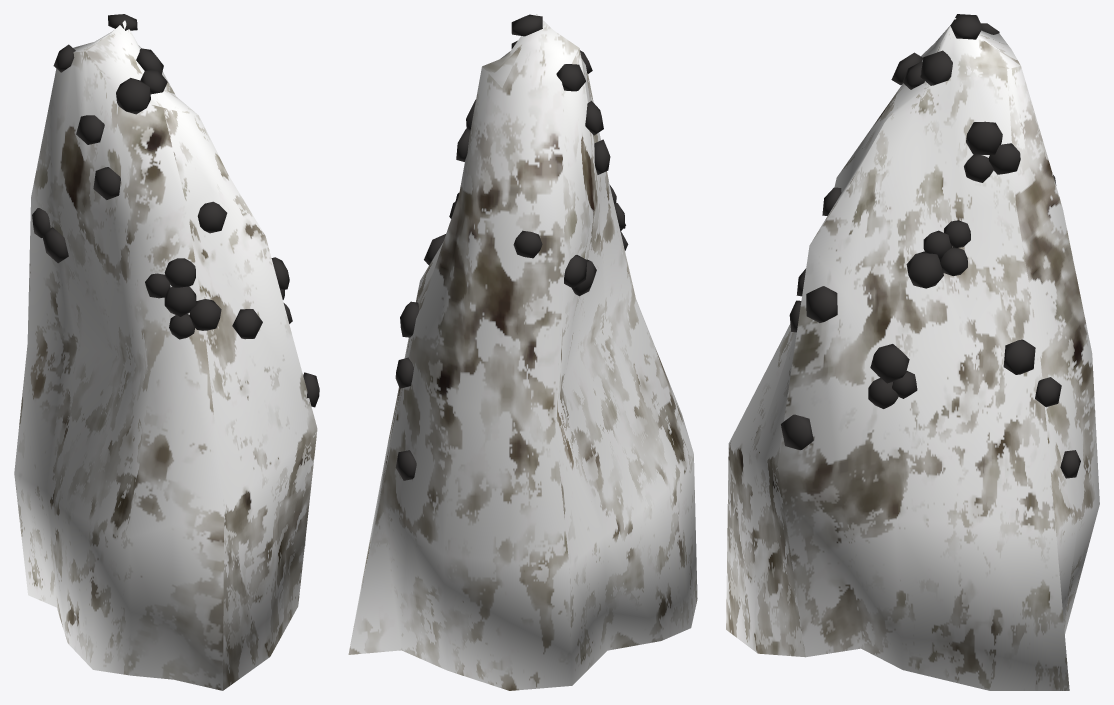
Rendered from King_Bone.fbx.
The picture shows the model from 3 angles, left to right: view 1: azimuth 30°, elevation 25°; view 2: azimuth 150°, elevation 25°; view 3: azimuth 270°, elevation 25°; orthographic projection. The views are drawn at different scales.
Visible parts, largest first — view 1: King_bone; view 2: King_bone; view 3: King_bone.
Boxes of the visible parts, box(x1,y1,x2,y2) form: King_bone: box(14, 14, 319, 690); King_bone: box(348, 14, 697, 690); King_bone: box(726, 14, 1099, 690).
Bounding box in the file's own units: 97.78 × 229 × 124.
Materials: 2 (1 with a texture image).
